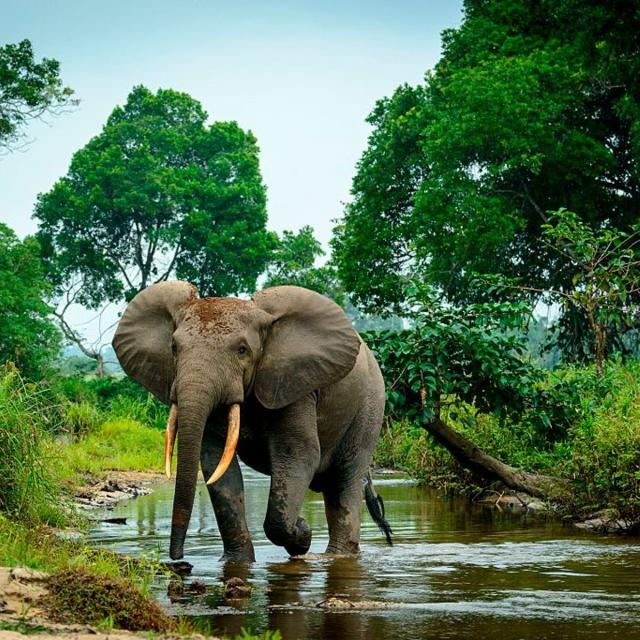Elephant: (111, 279, 394, 566)
